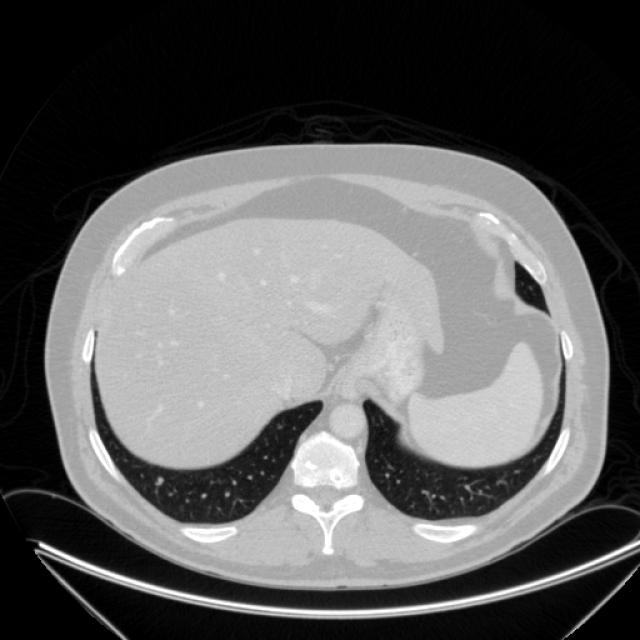nodule: (150, 470, 168, 488)
